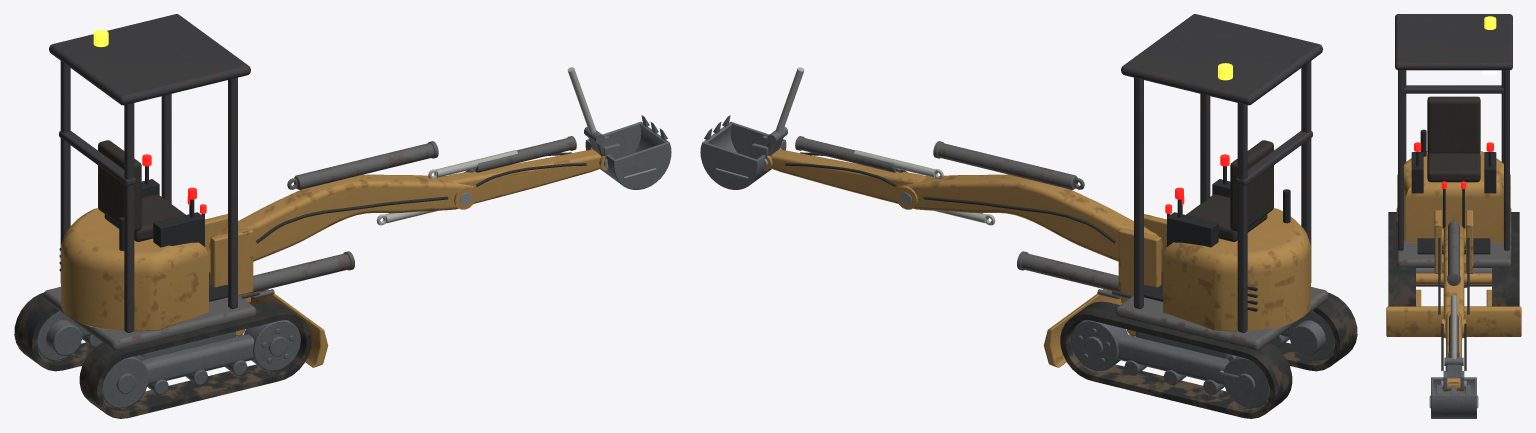
Rendered from minidigger_rusty.glb.
The picture shows the model from 3 angles, left to right: view 1: azimuth 30°, elevation 25°; view 2: azimuth 150°, elevation 25°; view 3: azimuth 270°, elevation 25°; orthographic projection. The views are drawn at different scales.
Visible parts, largest first — view 1: Canopy, HouseBody, TrackBand, BoomBody, Undercarriage, StickBody, BucketBody, Seat, Deck, BoomMount, StickRam, Controls (+8 smaller); view 2: Canopy, HouseBody, TrackBand, BoomBody, Undercarriage, StickBody, BucketBody, Seat, Deck, BoomMount, StickRam, Controls (+8 smaller); view 3: Canopy, HouseBody, Seat, BladeBody, TrackBand, Controls, BucketBody, Deck, BoomBody, BoomMount, StickRam, StickBody (+12 smaller).
Boxes of the visible parts, x1,y1,x2,y2 form: Canopy: [49, 14, 250, 332]; HouseBody: [61, 208, 208, 331]; TrackBand: [14, 292, 311, 418]; BoomBody: [209, 174, 475, 261]; Undercarriage: [46, 320, 253, 394]; StickBody: [445, 147, 612, 203]; BucketBody: [585, 121, 671, 189]; Seat: [98, 140, 185, 241]; Deck: [43, 287, 256, 350]; BoomMount: [205, 214, 253, 296]; StickRam: [287, 141, 438, 189]; Controls: [141, 166, 227, 301]; Canopy: [1121, 14, 1322, 332]; HouseBody: [1163, 208, 1310, 331]; TrackBand: [1060, 292, 1357, 418]; BoomBody: [896, 174, 1162, 261]; Undercarriage: [1118, 320, 1325, 394]; StickBody: [764, 147, 926, 203]; BucketBody: [700, 121, 786, 189]; Seat: [1186, 140, 1273, 241]; Deck: [1115, 287, 1328, 350]; BoomMount: [1118, 214, 1166, 296]; StickRam: [933, 141, 1084, 189]; Controls: [1144, 166, 1230, 301]; Canopy: [1395, 14, 1512, 250]; HouseBody: [1397, 151, 1510, 242]; Seat: [1427, 96, 1480, 182]; BladeBody: [1386, 273, 1521, 336]; TrackBand: [1388, 212, 1519, 306]; Controls: [1411, 152, 1496, 254]; BucketBody: [1431, 371, 1476, 418]; Deck: [1396, 208, 1511, 267]; BoomBody: [1442, 224, 1465, 338]; BoomMount: [1434, 210, 1473, 273]; StickRam: [1447, 220, 1460, 285]; StickBody: [1443, 311, 1464, 391].
Size of the model in its own units: 4.59 by 2.4 by 1.12.
Materials: 27 (22 with a texture image).
